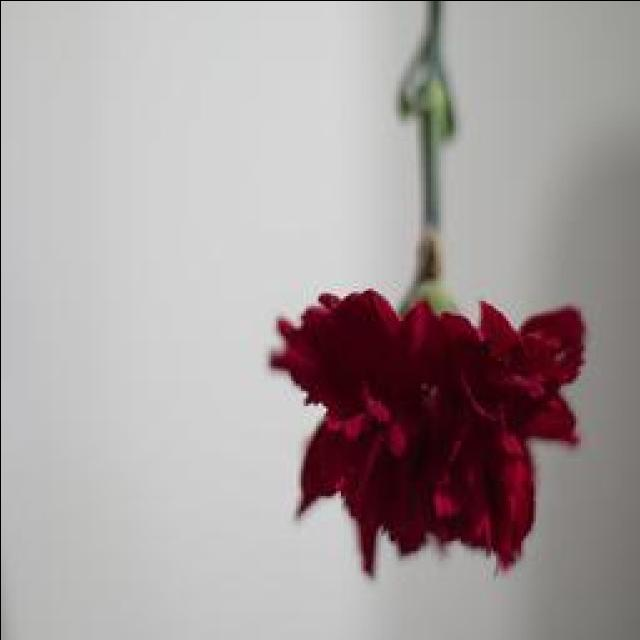carnation: (228, 235, 594, 588)
